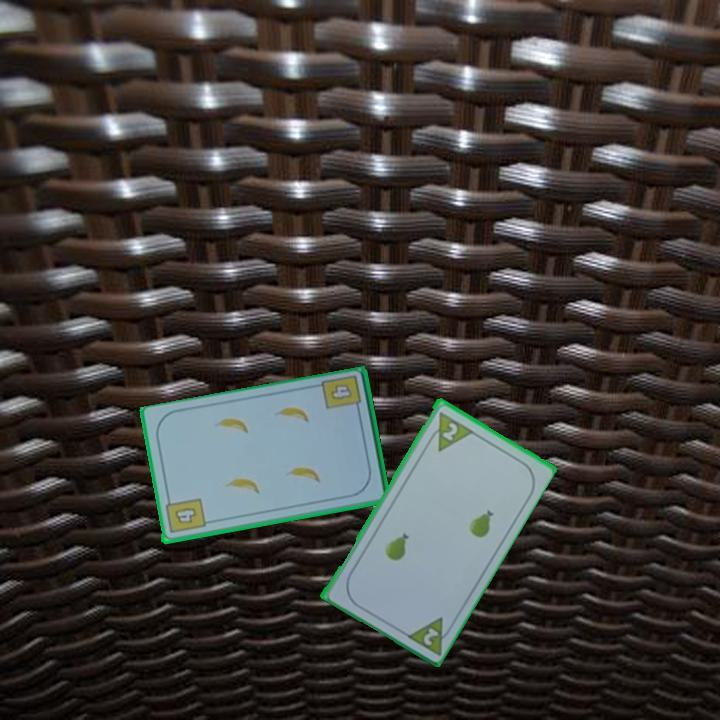2p: (438, 418, 461, 443), (419, 623, 441, 648)
4b: (318, 372, 364, 417), (161, 494, 208, 536)
